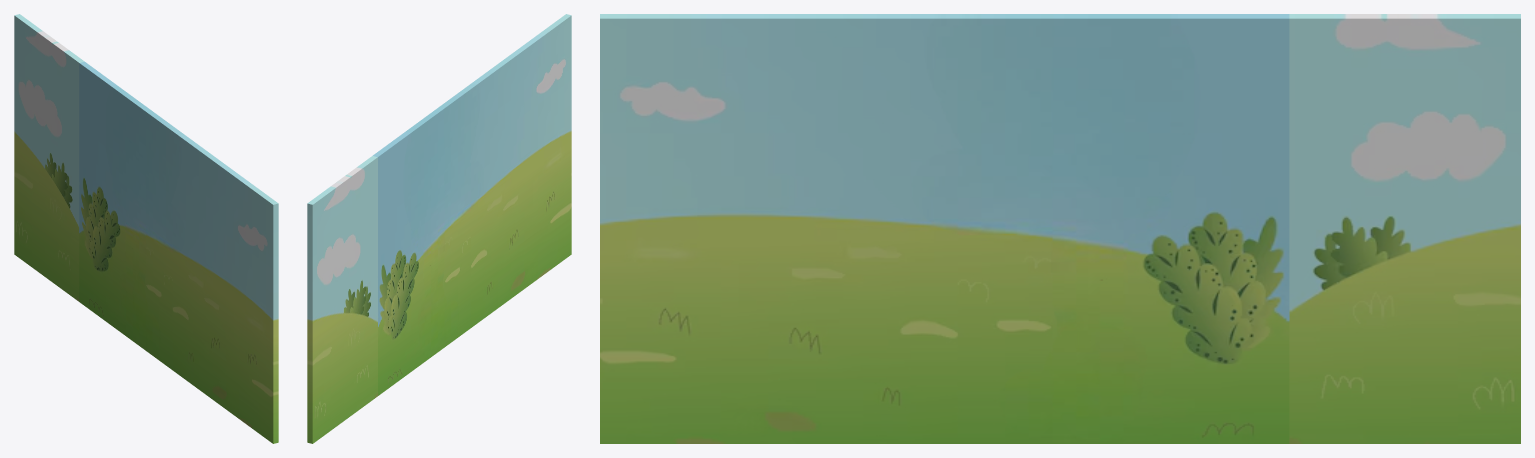
The model's file is PARED FONDO CHICA PARQUE.fbx.
The picture shows the model from 3 angles, left to right: view 1: azimuth 30°, elevation 25°; view 2: azimuth 150°, elevation 25°; view 3: azimuth 270°, elevation 25°; orthographic projection. The views are drawn at different scales.
Visible parts, largest first — view 1: PARQUE PARED MITAD; view 2: PARQUE PARED MITAD; view 3: PARQUE PARED MITAD.
Boxes of the visible parts, x1,y1,x2,y2 form: PARQUE PARED MITAD: [14, 14, 278, 443]; PARQUE PARED MITAD: [307, 14, 571, 443]; PARQUE PARED MITAD: [600, 14, 1520, 443].
Bounding box in the file's own units: 63.39 × 2622 × 5146.
